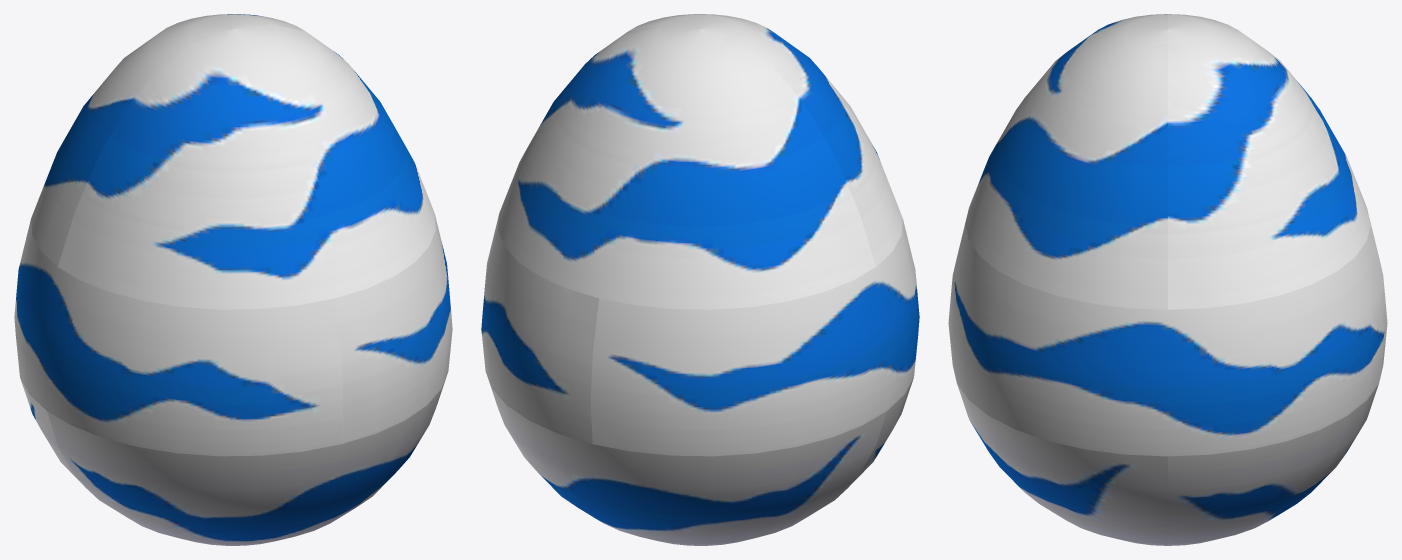
File: RedEgg.dae
The picture shows the model from 3 angles, left to right: view 1: azimuth 30°, elevation 25°; view 2: azimuth 150°, elevation 25°; view 3: azimuth 270°, elevation 25°; orthographic projection.
Visible parts, largest first — view 1: Egg; view 2: Egg; view 3: Egg.
Part boxes in pixels (x1,y1,x2,y2): Egg: (14, 14, 452, 545); Egg: (481, 14, 919, 545); Egg: (948, 14, 1387, 545).
Bounding box in the file's own units: 0.7112 × 0.8871 × 0.7112.
1 material, 1 textured.
